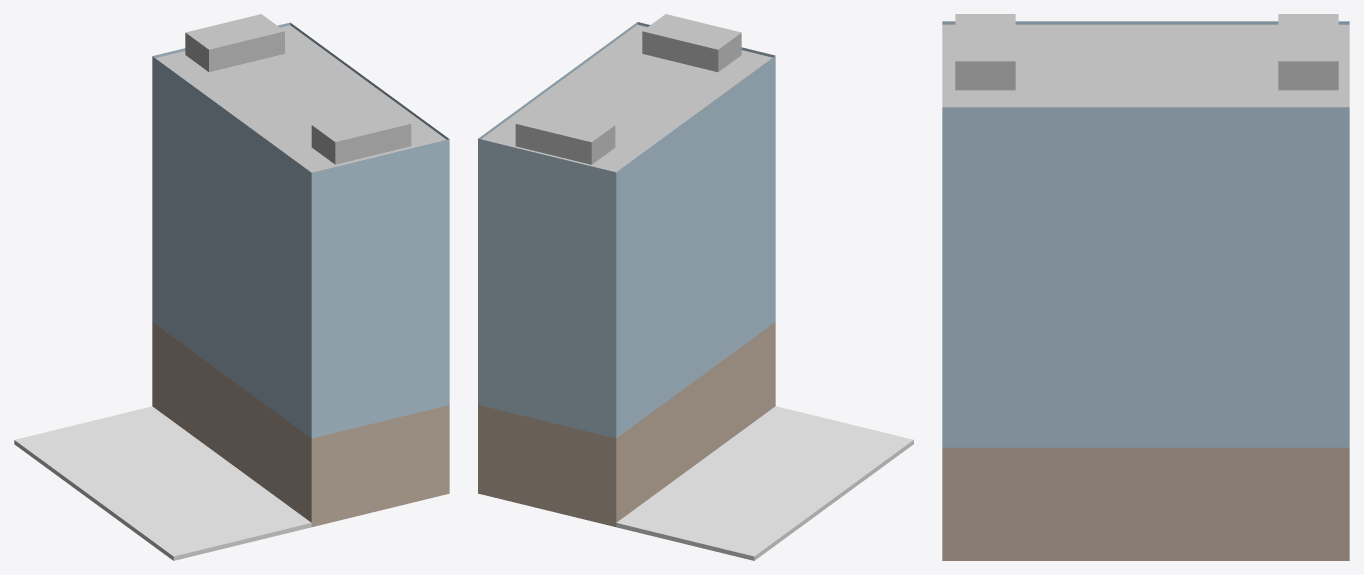
3 renders of one model, left to right at view 1: azimuth 30°, elevation 25°; view 2: azimuth 150°, elevation 25°; view 3: azimuth 270°, elevation 25°, orthographic. The views are drawn at different scales.
Parts seen in each view (by area): view 1: Object_4, Object_5, Object_6, Object_3, Object_2, Object_1; view 2: Object_4, Object_5, Object_6, Object_3, Object_1, Object_2; view 3: Object_4, Object_5, Object_3, Object_2, Object_1.
Boxes of the visible parts, x1,y1,x2,y2 form: Object_4: [152, 22, 449, 438]; Object_5: [152, 322, 449, 526]; Object_6: [14, 406, 311, 560]; Object_3: [155, 25, 446, 172]; Object_2: [311, 106, 411, 164]; Object_1: [185, 14, 284, 71]; Object_4: [478, 22, 775, 438]; Object_5: [478, 322, 775, 526]; Object_6: [616, 406, 913, 560]; Object_3: [481, 24, 772, 172]; Object_1: [515, 106, 615, 164]; Object_2: [642, 14, 741, 72]; Object_4: [942, 21, 1349, 447]; Object_5: [942, 447, 1349, 560]; Object_3: [942, 24, 1349, 107]; Object_2: [955, 14, 1015, 90]; Object_1: [1278, 14, 1338, 90].
Size of the model in its own units: 1283 by 1283 by 1663.
